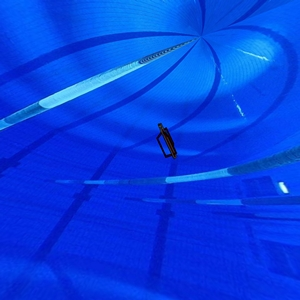submarine: (152, 122, 182, 166)
